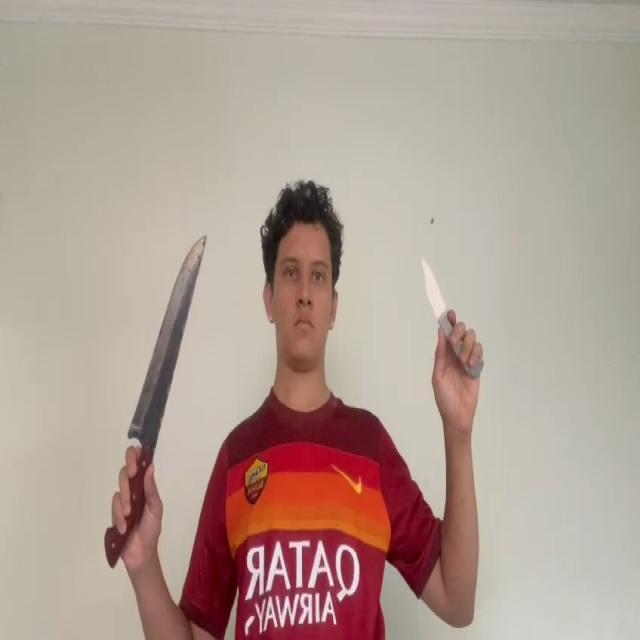knife: (126, 235, 206, 440), (422, 258, 445, 312)
